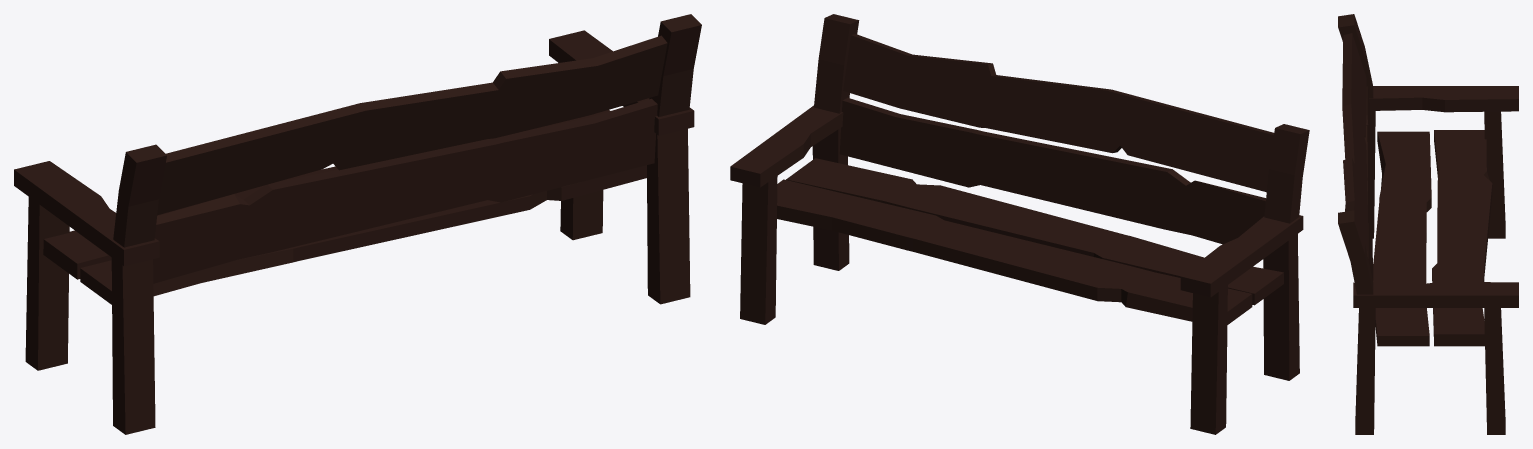
Rendered from Bench_1.obj.
3 views of the same model, side by side, from view 1: azimuth 30°, elevation 25°; view 2: azimuth 150°, elevation 25°; view 3: azimuth 270°, elevation 25° (orthographic). The views are drawn at different scales.
Parts seen in each view (by area): view 1: Bench_1_Cube.240; view 2: Bench_1_Cube.240; view 3: Bench_1_Cube.240.
Part boxes in pixels (x1,y1,x2,y2): Bench_1_Cube.240: (14, 14, 701, 434); Bench_1_Cube.240: (730, 14, 1309, 434); Bench_1_Cube.240: (1338, 14, 1518, 434).
Bounding box in the file's own units: 0.665 × 0.3158 × 0.2424.
